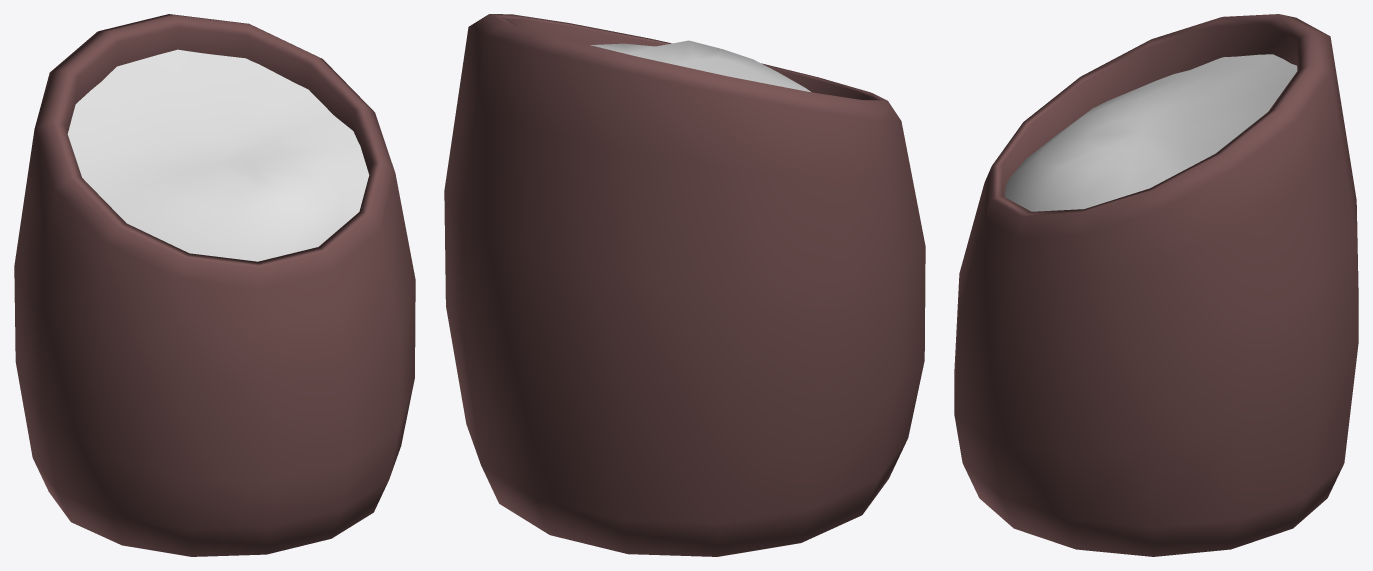
Rendered from MarketBin_02.fbx.
3 views of the same model, side by side, from view 1: azimuth 30°, elevation 25°; view 2: azimuth 150°, elevation 25°; view 3: azimuth 270°, elevation 25° (orthographic). The views are drawn at different scales.
Visible parts, largest first — view 1: MarketBin_02; view 2: MarketBin_02; view 3: MarketBin_02.
Boxes of the visible parts, x1=… form: MarketBin_02: x1=14, y1=14, x2=415, y2=556; MarketBin_02: x1=444, y1=14, x2=925, y2=556; MarketBin_02: x1=954, y1=14, x2=1358, y2=556.
Size of the model in its own units: 272 by 311 by 255.
